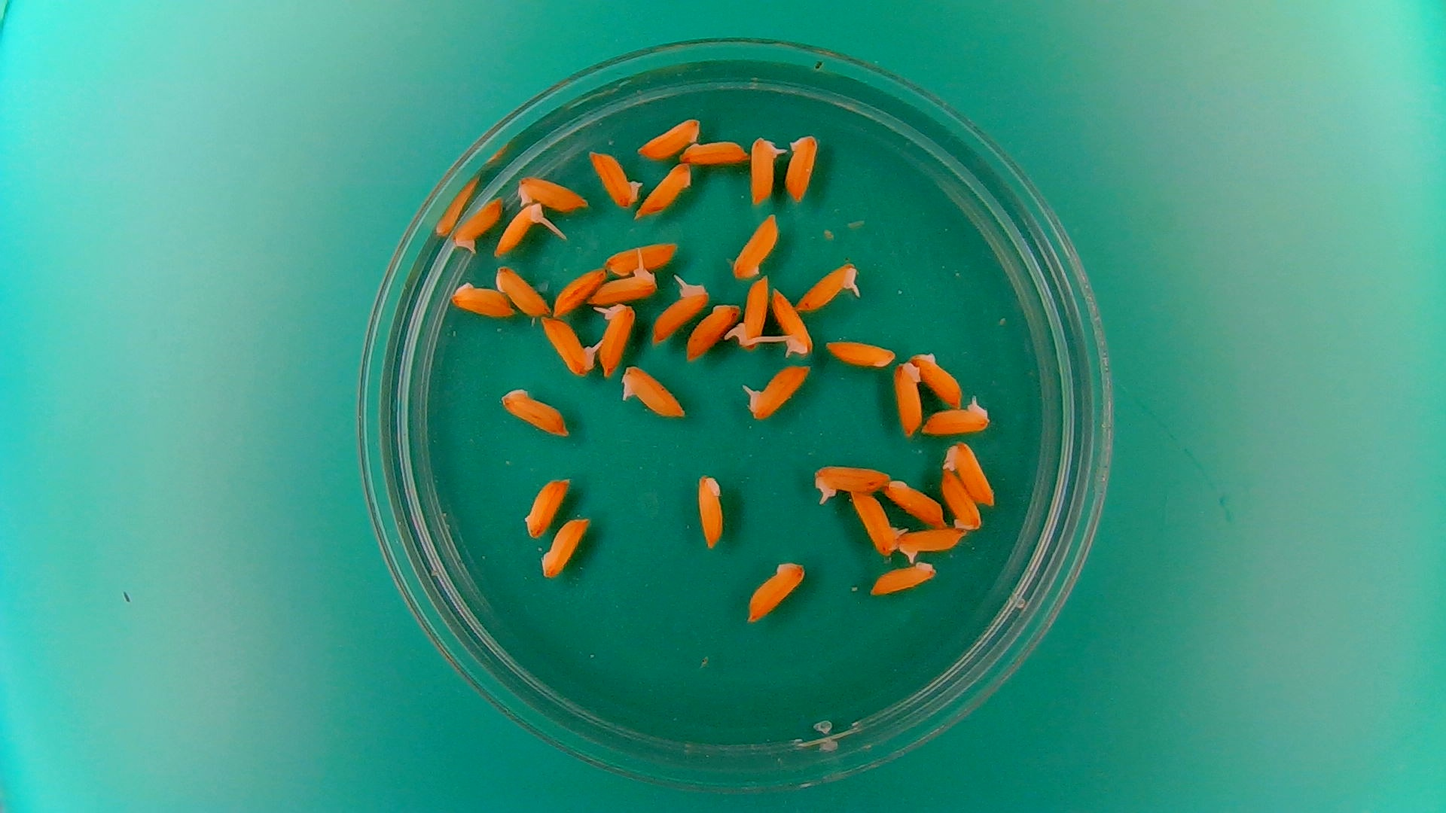no: (743, 555, 807, 625), (496, 384, 572, 438), (617, 362, 687, 420), (728, 211, 780, 282), (538, 512, 592, 580), (944, 438, 997, 507), (685, 299, 739, 363), (636, 160, 694, 218), (587, 147, 643, 207), (881, 476, 946, 527), (493, 262, 551, 318), (520, 473, 569, 539), (911, 349, 964, 409), (633, 114, 702, 160), (515, 171, 590, 212), (606, 240, 682, 279), (938, 467, 982, 533), (868, 556, 941, 595), (782, 129, 820, 203), (551, 265, 606, 316), (822, 334, 898, 370), (892, 357, 924, 438), (448, 279, 514, 318), (679, 135, 750, 166)
yes: (740, 361, 813, 421), (537, 312, 604, 377), (650, 273, 710, 345), (848, 489, 909, 559), (720, 273, 770, 351), (792, 260, 862, 313), (810, 461, 892, 504), (593, 300, 637, 379), (770, 283, 815, 358), (450, 193, 505, 252), (493, 200, 551, 255), (585, 263, 660, 305), (920, 396, 993, 437), (749, 132, 787, 205), (896, 524, 967, 562)
